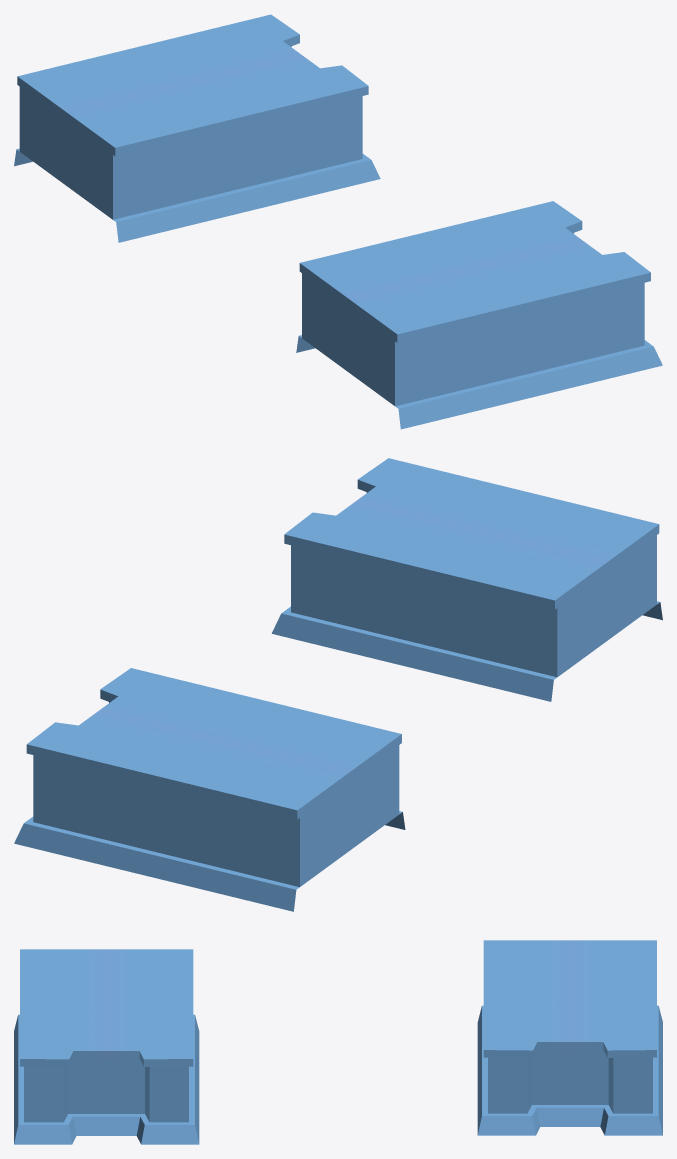
Rendered from Area_04_4.FBX.
3 renders of one model, top to bottom at view 1: azimuth 30°, elevation 25°; view 2: azimuth 150°, elevation 25°; view 3: azimuth 270°, elevation 25°, orthographic. The views are drawn at different scales.
Parts seen in each view (by area): view 1: Area_04_4; view 2: Area_04_4; view 3: Area_04_4.
Part boxes in pixels (x1=…): Area_04_4: x1=14, y1=14, x2=662, y2=429; Area_04_4: x1=14, y1=458, x2=662, y2=911; Area_04_4: x1=14, y1=940, x2=662, y2=1144.
Bounding box in the file's own units: 1374 × 430 × 3084.
